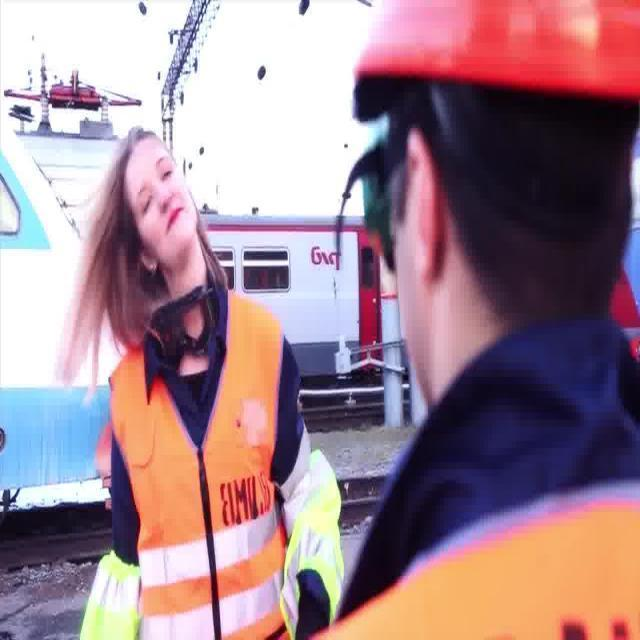safety_vest: (107, 298, 286, 640)
